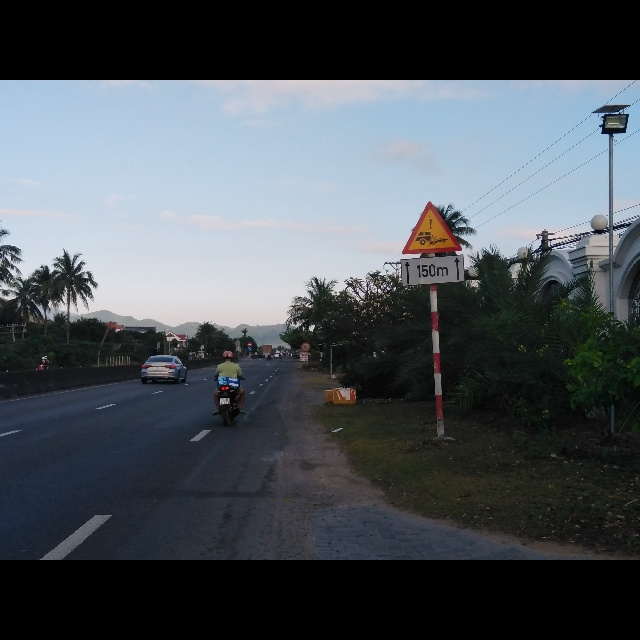Đoạn đường hay xảy ra tai nạn: (401, 202, 460, 253)
